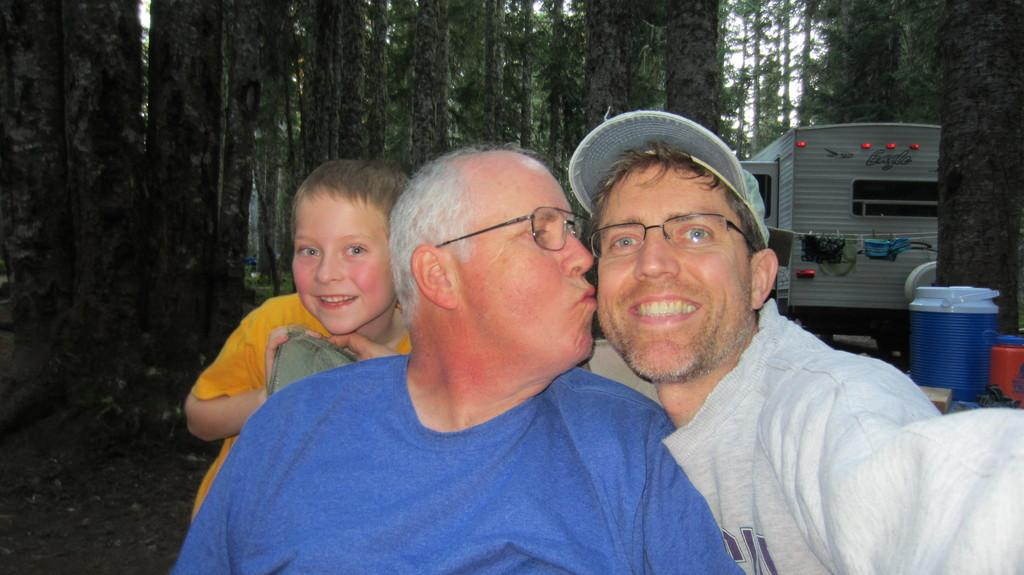Hat: (568, 107, 770, 248)
